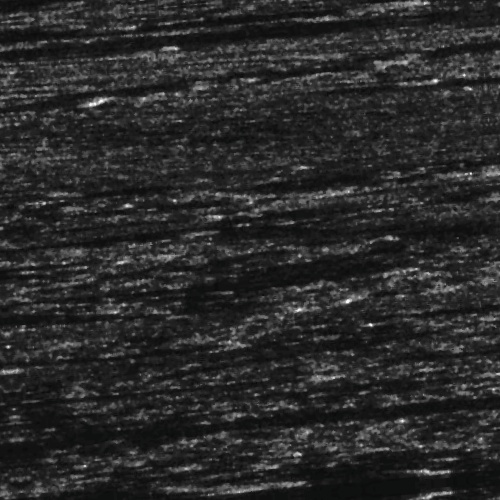object: (124, 473, 333, 494), (350, 69, 443, 80), (186, 338, 249, 345), (100, 79, 141, 88), (186, 223, 239, 228), (284, 378, 337, 383), (397, 93, 450, 98), (127, 241, 158, 248), (0, 97, 11, 104)
shadow: (0, 69, 397, 80), (88, 416, 500, 425), (71, 28, 500, 35), (0, 378, 311, 383), (160, 473, 228, 494), (0, 79, 120, 88), (45, 15, 402, 18), (84, 338, 217, 345), (79, 223, 212, 228), (301, 93, 423, 98), (429, 367, 500, 374), (74, 241, 142, 248), (411, 97, 500, 102), (455, 324, 500, 331)
